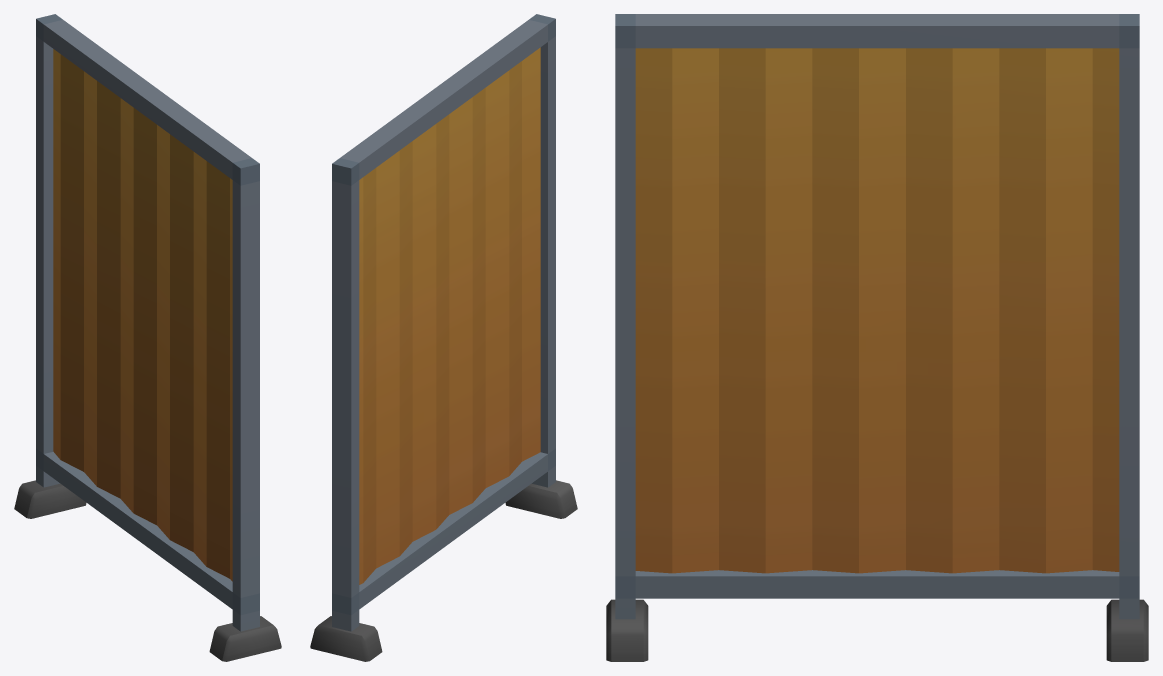
The model's file is Barier_2_7.fbx.
3 renders of one model, left to right at view 1: azimuth 30°, elevation 25°; view 2: azimuth 150°, elevation 25°; view 3: azimuth 270°, elevation 25°, orthographic. The views are drawn at different scales.
Visible parts, largest first — view 1: Barier_2_7; view 2: Barier_2_7; view 3: Barier_2_7.
Part boxes in pixels (<box>): Barier_2_7: <box>14,14,281,661</box>; Barier_2_7: <box>310,14,577,661</box>; Barier_2_7: <box>606,14,1148,661</box>.
Bounding box in the file's own units: 34.35 × 268 × 211.
